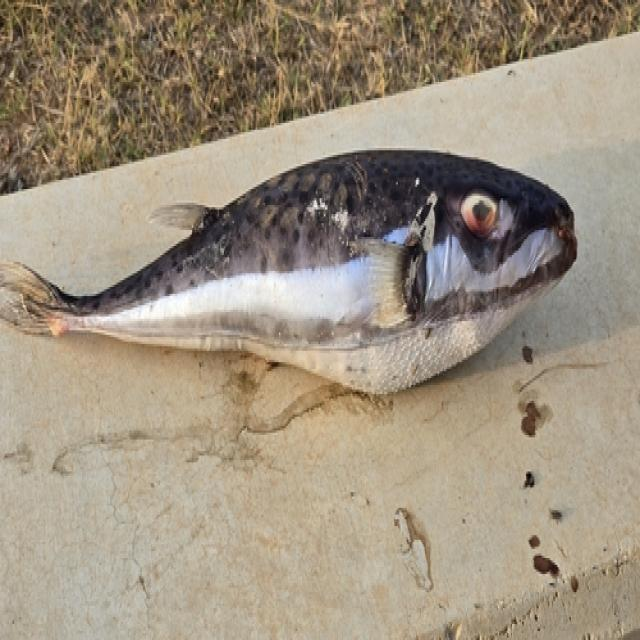Balik: (0, 151, 577, 394)
